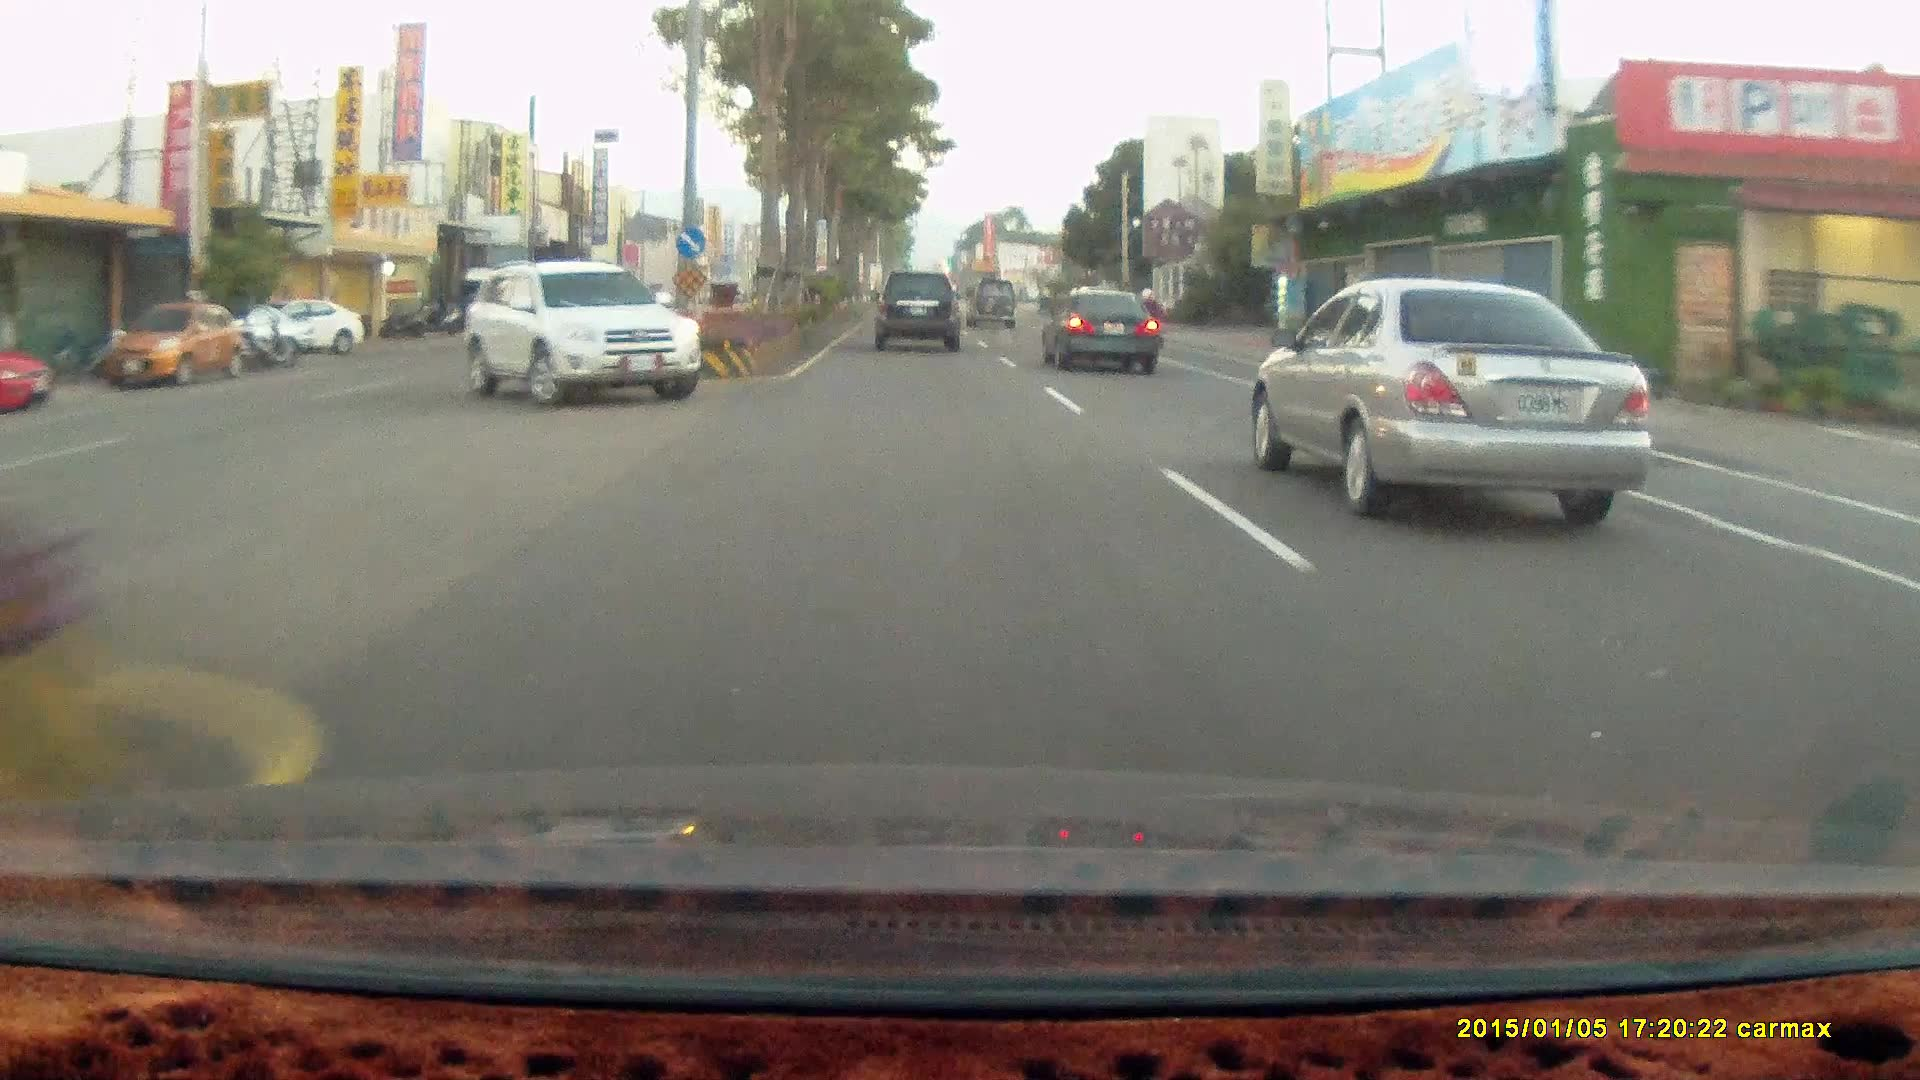vehicle: (1255, 277, 1655, 524), (460, 264, 705, 407), (462, 261, 705, 405), (88, 305, 245, 396), (100, 302, 248, 390), (1038, 287, 1156, 375), (1047, 295, 1163, 381), (872, 272, 967, 359), (247, 302, 365, 363), (247, 295, 365, 355), (873, 270, 959, 349), (1, 326, 55, 418), (967, 281, 1021, 334), (965, 278, 1017, 330)
